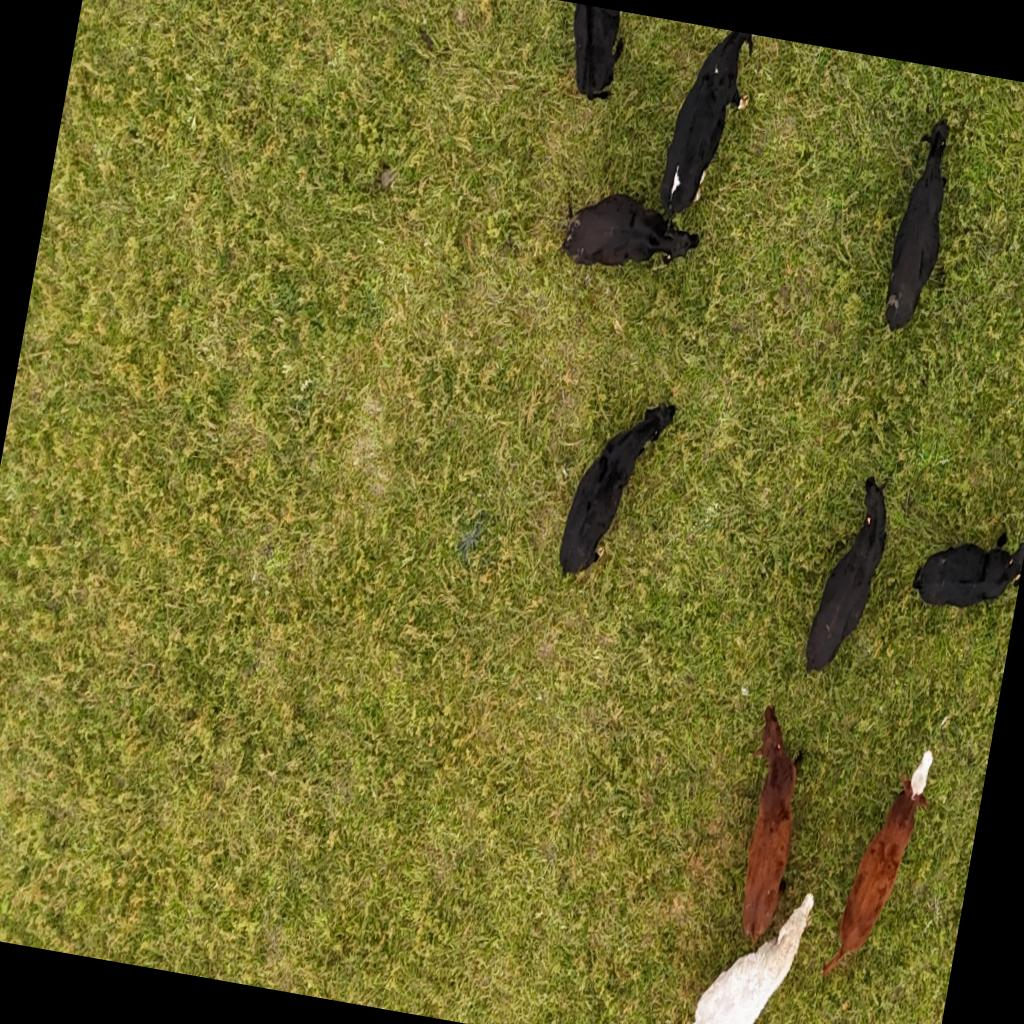cow: (818, 740, 940, 993), (554, 392, 676, 592), (722, 704, 816, 950), (653, 24, 762, 234), (800, 471, 898, 687), (682, 872, 816, 1024), (878, 112, 962, 340), (556, 186, 704, 285), (909, 512, 1024, 623)
